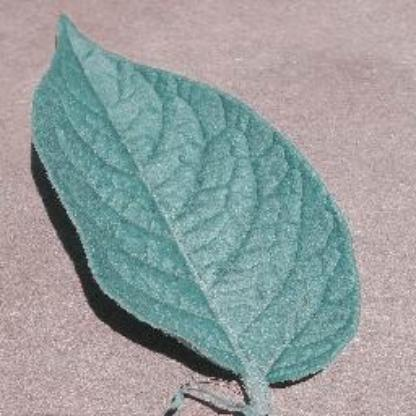Healthy-plant: (27, 8, 369, 416)
